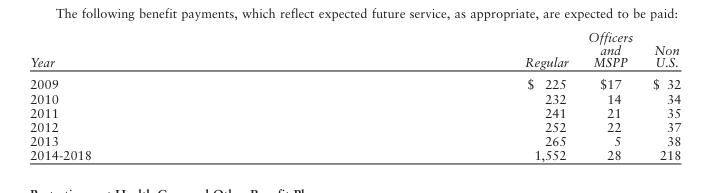table: (29, 28, 680, 162)
table column: (29, 28, 307, 162), (307, 28, 577, 162), (577, 28, 642, 162), (642, 28, 680, 162)
table column header: (29, 28, 680, 72)
table row: (29, 28, 680, 72), (29, 72, 680, 90), (29, 90, 680, 105), (29, 147, 680, 162), (29, 105, 680, 119), (29, 119, 680, 133), (29, 133, 680, 147)
